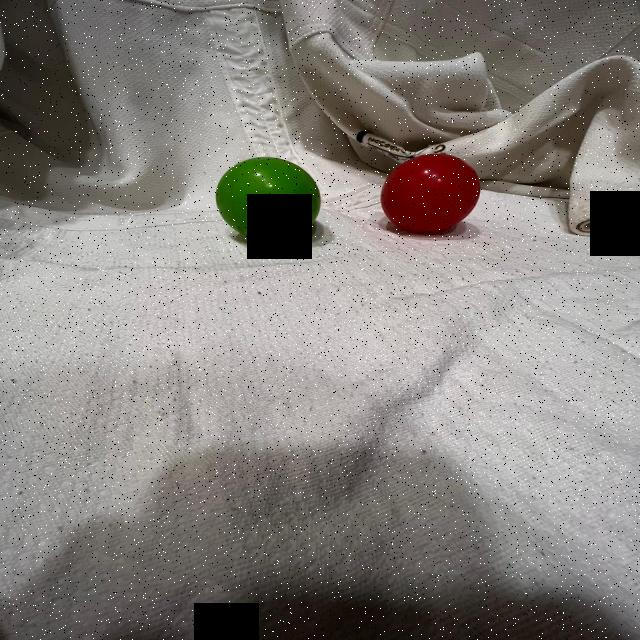ball: (212, 154, 325, 243), (377, 153, 483, 235)
